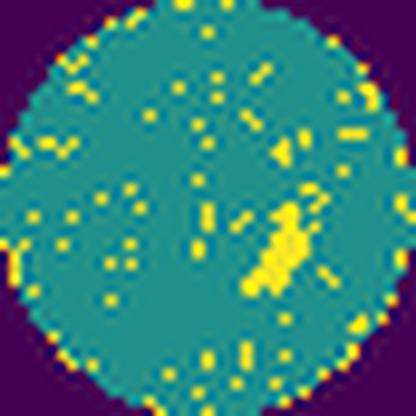Loc: (235, 202, 316, 298)
